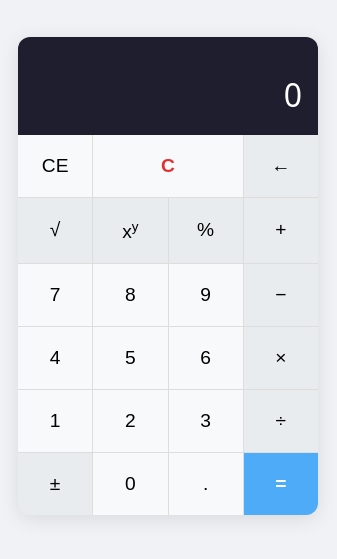
Calculator › displays error on sqrt of negative number
This screenshot has width=337, height=559.
What coordinates should you click on to do the following:
click the button "1"
I would click on:
 (55, 420)
Its box is [18,390,92,452].
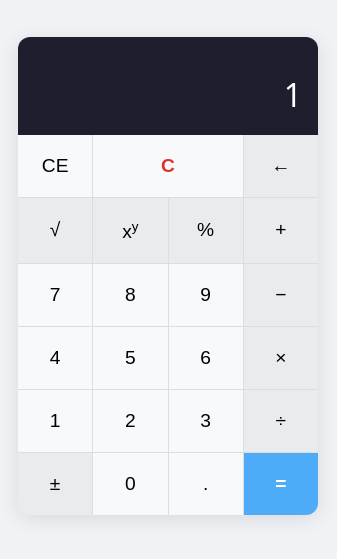
What coordinates should you click on to do the following:
click the button "√"
I would click on:
 (55, 230)
Its box is [18,198,92,262].
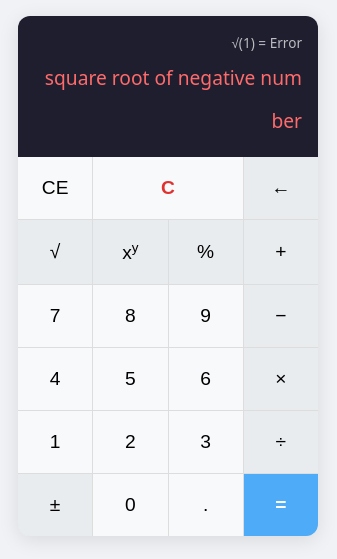
Result: the element with test id "display" reads "square root of negative number" at [45,64,302,134]
Result: the text "√(1) = Error" is shown at [231,33,302,52]
